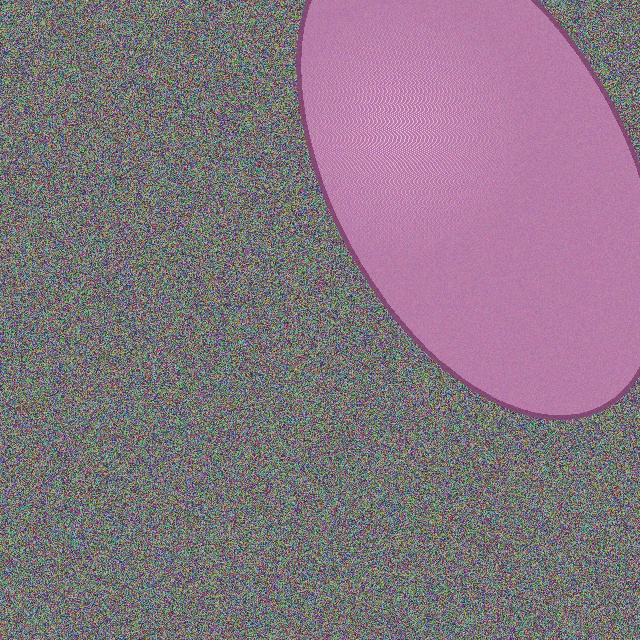lens: (298, 0, 640, 417)
